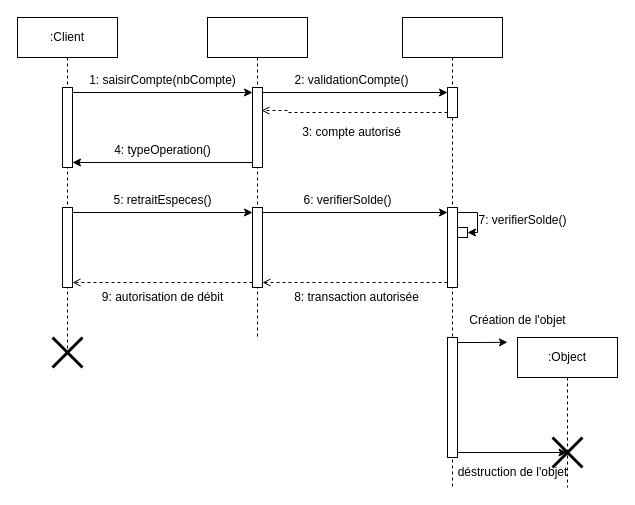
This 635x505 diagram has some shape labels left out. Here are the shapes that lost their labels. From the top down, the centre of each, then its label:
At (x=257, y=177): ":SystemeGuichet".
At (x=452, y=252): ":SystemeCentral".
